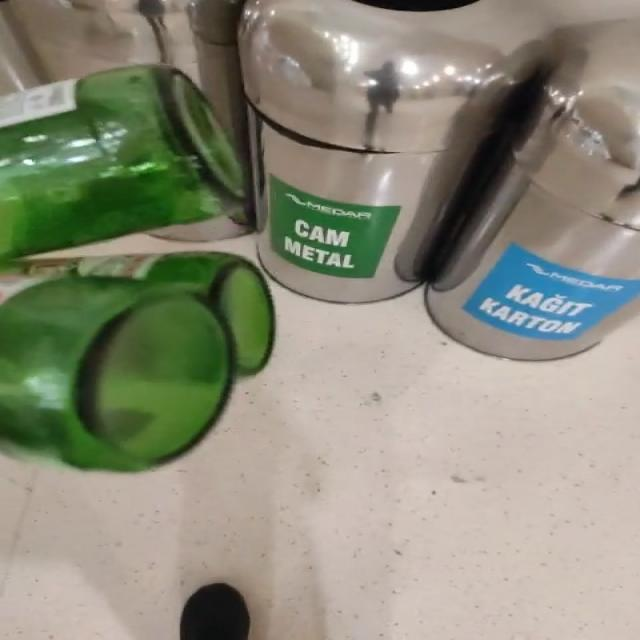glass: (1, 65, 275, 472)
